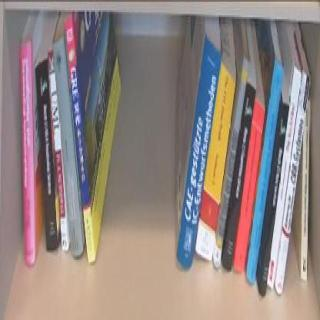book-spine: (173, 32, 225, 268), (194, 62, 239, 264), (245, 58, 285, 285), (273, 70, 311, 295), (212, 52, 251, 269), (265, 65, 302, 292), (64, 14, 96, 264), (220, 81, 258, 273), (52, 33, 84, 258), (258, 102, 290, 298), (233, 99, 266, 273), (35, 57, 58, 253), (47, 48, 68, 252), (20, 39, 36, 266), (300, 100, 310, 283)
